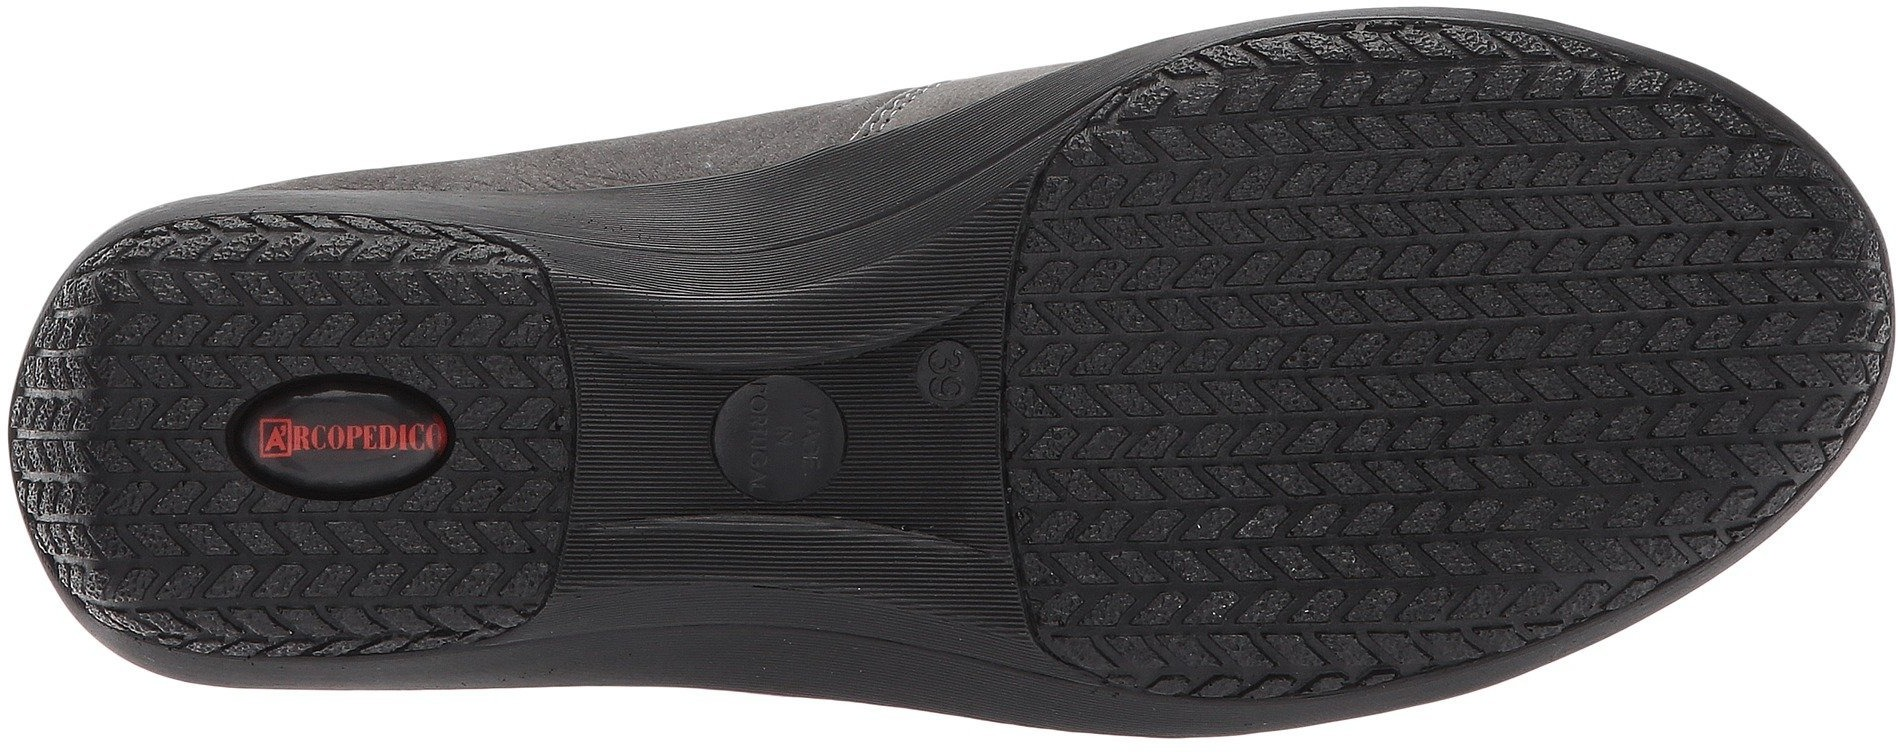circle: (214, 376, 464, 508), (697, 358, 870, 513), (909, 334, 991, 414)
line: (697, 358, 870, 513), (573, 350, 692, 473), (573, 482, 692, 591), (909, 334, 991, 414)
quad: (1361, 54, 1710, 378), (1062, 123, 1356, 482), (1359, 384, 1624, 623), (1062, 485, 1279, 680), (214, 376, 464, 508), (44, 323, 209, 506), (222, 500, 383, 667), (254, 225, 419, 372), (1624, 380, 1756, 511), (259, 398, 340, 476)
text: (214, 376, 464, 508), (697, 358, 870, 513), (740, 400, 823, 483), (909, 334, 991, 414), (259, 398, 340, 476), (353, 406, 429, 485), (919, 344, 976, 402)
